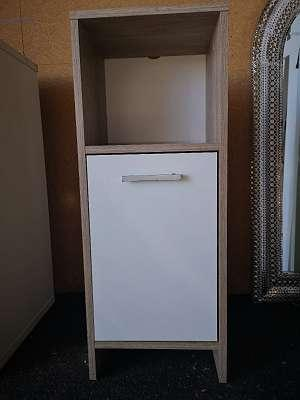cabinet_door: (88, 152, 216, 344)
handle: (121, 170, 189, 192)
